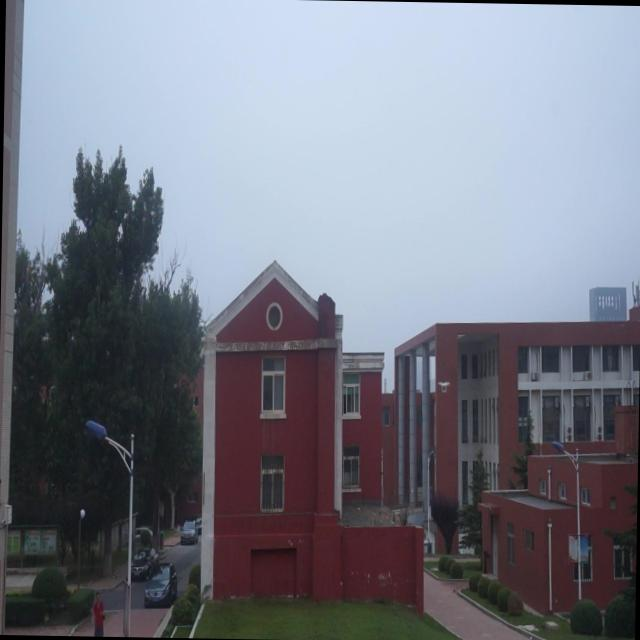drone: (436, 376, 452, 394)
